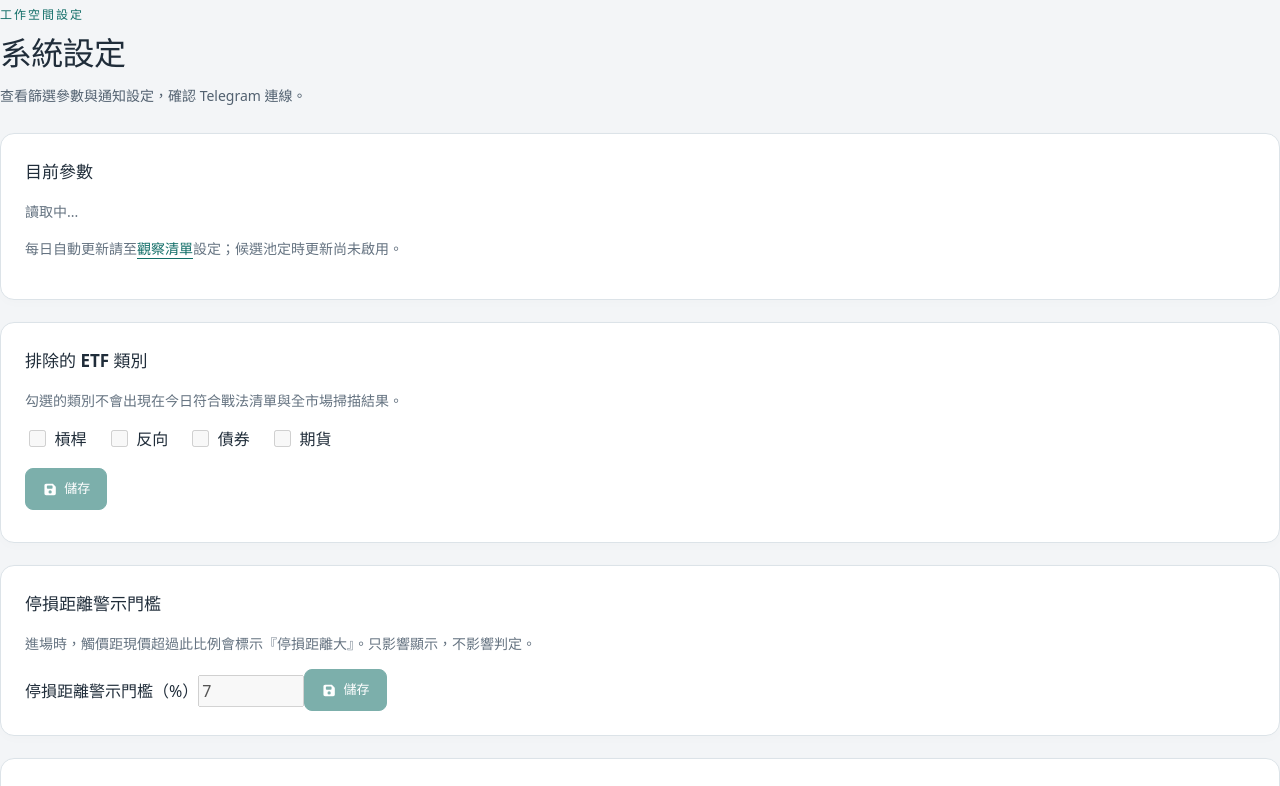
Test: 調整停損距離警示門檻並儲存
Step 1. Replace the text in the number field labelled "停損距離警示門檻（%）" with "8" → (251, 691), box [198,675,304,707]
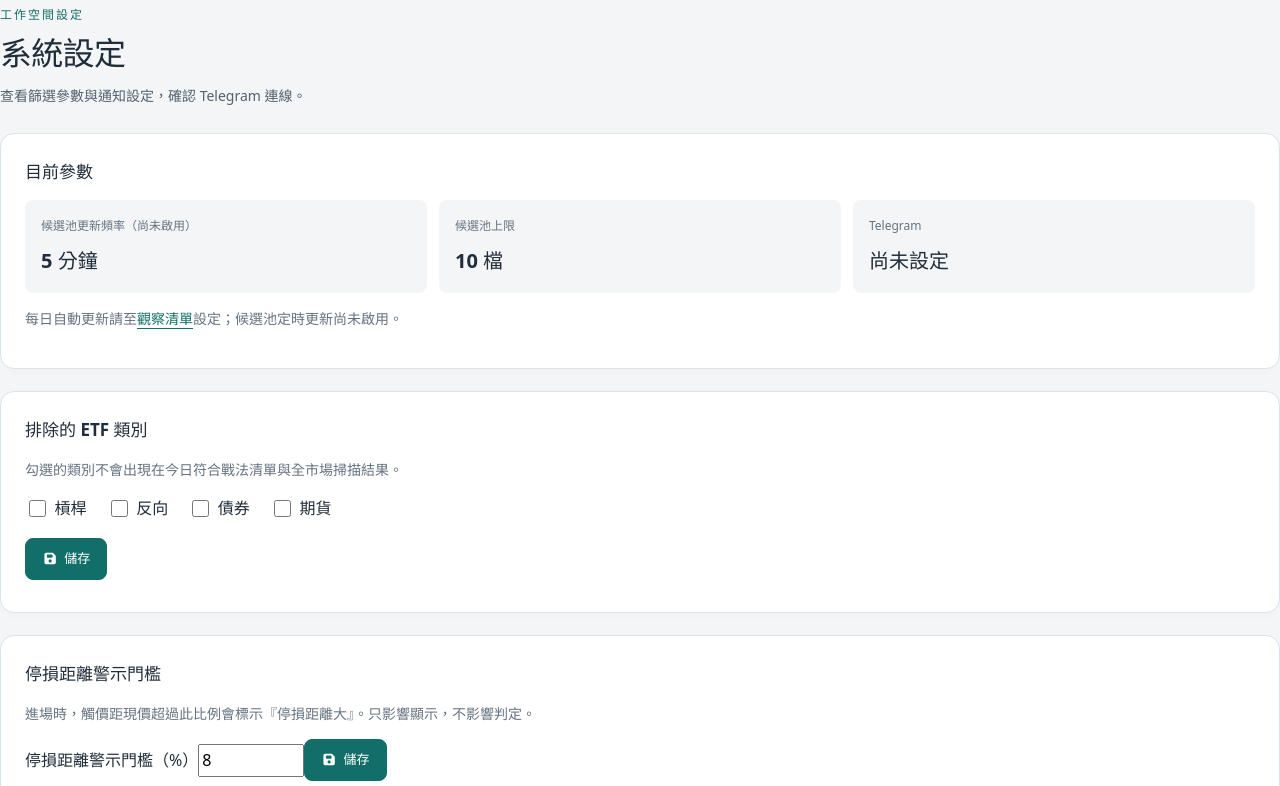
Step 2. Click the button "儲存" next to "停損距離警示門檻（%）" → (345, 760), box [304,739,387,781]
(page scrolled)
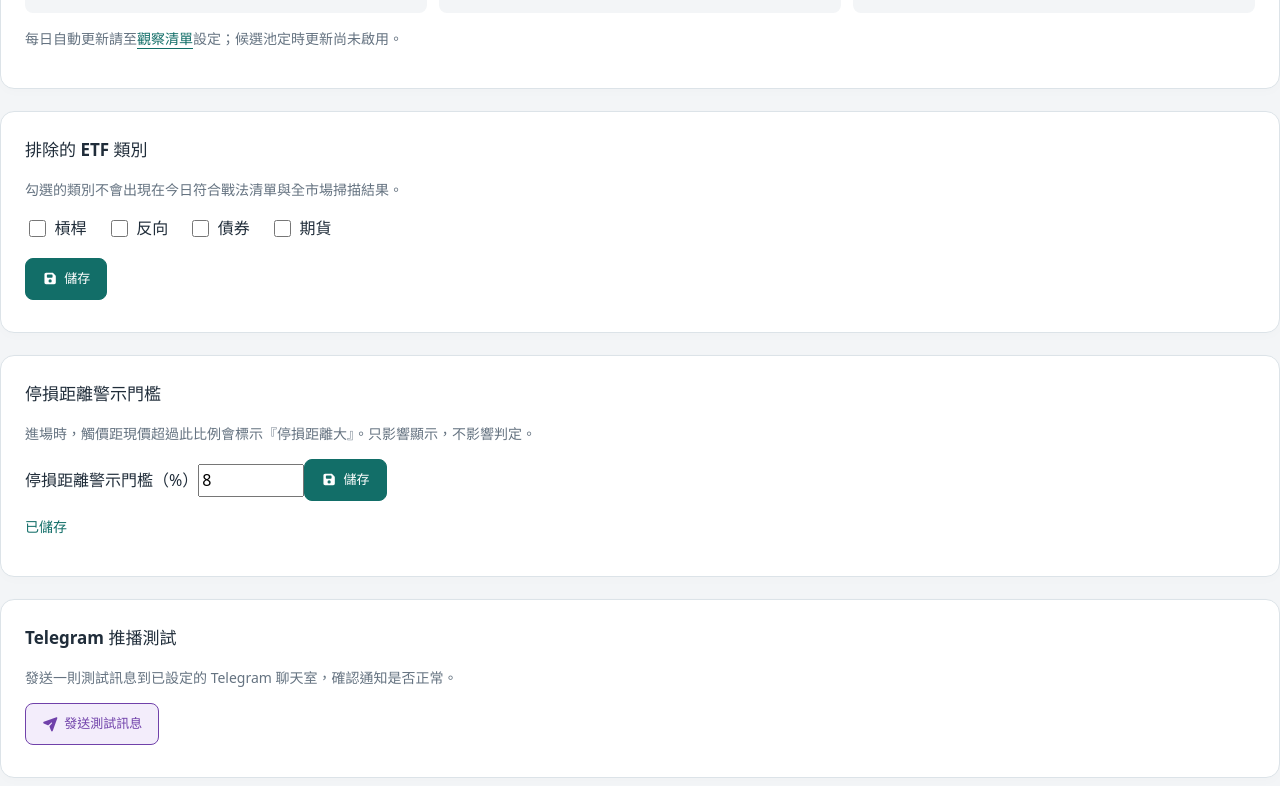
Check: the text "已儲存" is shown, box [25,517,67,536]
